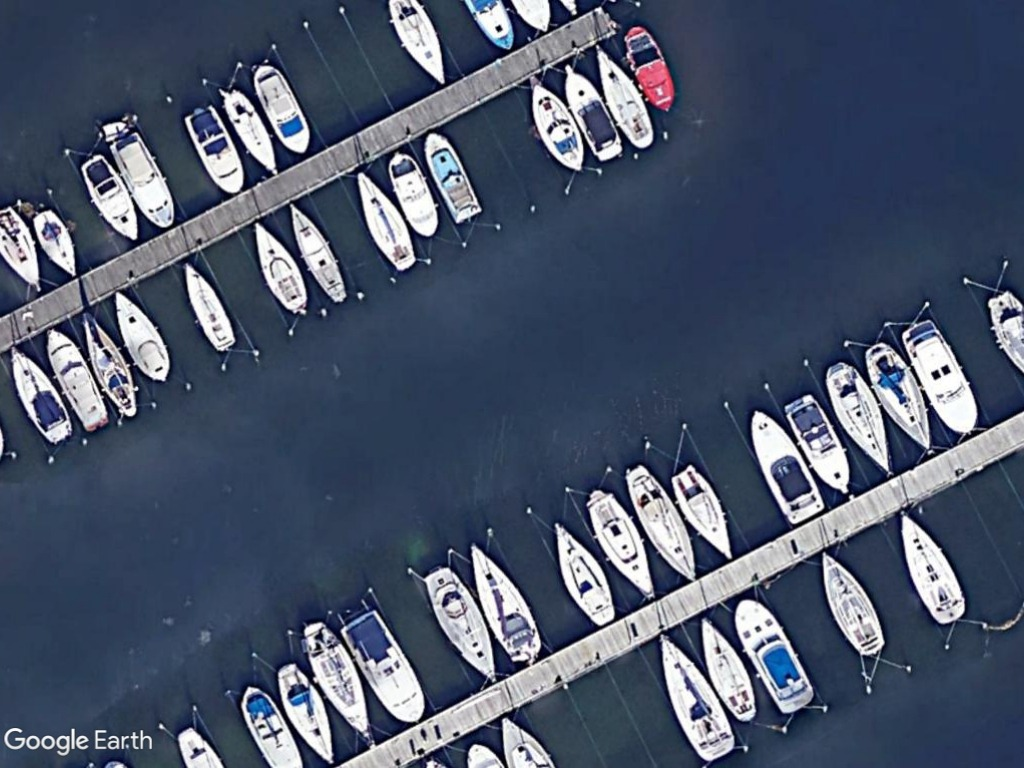boat: (897, 310, 988, 447), (414, 558, 510, 687), (338, 606, 432, 728), (655, 633, 739, 764), (466, 538, 549, 670), (890, 502, 973, 628), (859, 338, 943, 462), (747, 402, 830, 527), (734, 594, 818, 717), (583, 480, 663, 606), (297, 615, 374, 744), (624, 459, 702, 585), (822, 355, 900, 479), (101, 128, 188, 239), (41, 320, 118, 438), (545, 514, 621, 629), (815, 547, 891, 661), (74, 306, 144, 425), (782, 390, 854, 504), (5, 340, 79, 449), (286, 194, 353, 311), (177, 96, 250, 201), (694, 612, 761, 726), (351, 167, 422, 274), (671, 459, 739, 569), (107, 287, 181, 388), (591, 40, 658, 151), (175, 254, 244, 360), (276, 656, 340, 768), (559, 60, 626, 165), (249, 58, 316, 159), (420, 126, 484, 229), (249, 215, 312, 318), (382, 143, 446, 241), (217, 83, 283, 178), (527, 78, 591, 175), (620, 20, 681, 117), (29, 202, 83, 282)
